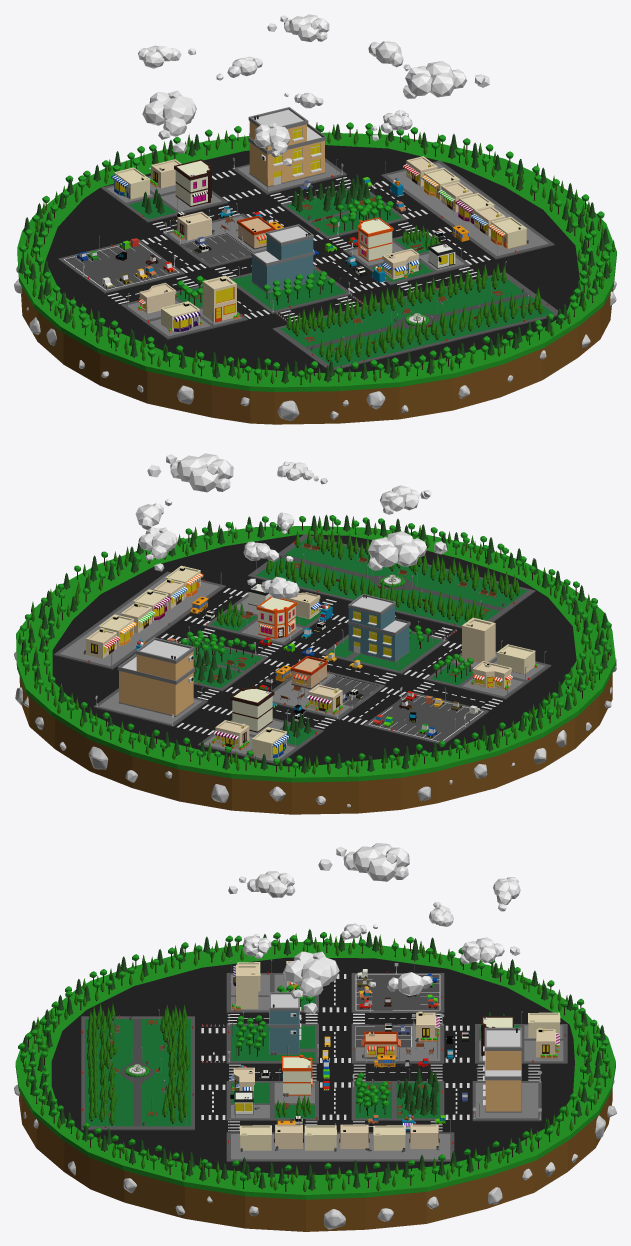
The model's file is CITTà.fbx.
3 views of the same model, one above another, from view 1: azimuth 30°, elevation 25°; view 2: azimuth 150°, elevation 25°; view 3: azimuth 270°, elevation 25° (orthographic).
Parts seen in each view (by area): view 1: città, Plane.036, superpino.008, Plane, villa.002, villa, Icosphere.020, Nuvole grande.001, Nuvole grande.005, pino.006, pino.008, albergo.002 (+25 smaller); view 2: città, Plane.036, superpino.008, Plane, villa.002, villa, Icosphere.020, Nuvole grande.005, Nuvole grande.001, albergo.002, pino.009, albergo (+24 smaller); view 3: città, Plane.036, superpino.008, Plane, villa.002, Nuvole grande.001, Nuvole grande.005, Icosphere.020, villa, pino.010, albergo, Nuvole grande.003 (+20 smaller).
Boxes of the visible parts, left/top/right/bottom form: città: left=17, top=132, right=616, bottom=424; Plane.036: left=58, top=158, right=561, bottom=370; superpino.008: left=18, top=122, right=615, bottom=384; Plane: left=162, top=185, right=470, bottom=313; villa.002: left=248, top=107, right=326, bottom=187; villa: left=251, top=224, right=314, bottom=292; Icosphere.020: left=14, top=266, right=616, bottom=420; Nuvole grande.001: left=142, top=90, right=196, bottom=153; Nuvole grande.005: left=403, top=61, right=489, bottom=98; pino.006: left=335, top=296, right=542, bottom=362; pino.008: left=291, top=266, right=506, bottom=336; albergo.002: left=174, top=159, right=212, bottom=206; città: left=16, top=526, right=615, bottom=814; Plane.036: left=53, top=534, right=551, bottom=764; superpino.008: left=18, top=514, right=612, bottom=776; Plane: left=186, top=593, right=447, bottom=719; villa.002: left=117, top=637, right=194, bottom=716; villa: left=347, top=594, right=410, bottom=662; Icosphere.020: left=14, top=652, right=616, bottom=807; Nuvole grande.005: left=147, top=453, right=233, bottom=492; Nuvole grande.001: left=368, top=531, right=447, bottom=570; albergo.002: left=231, top=685, right=274, bottom=732; pino.009: left=266, top=560, right=474, bottom=621; albergo: left=256, top=596, right=296, bottom=638; città: left=15, top=941, right=615, bottom=1231; Plane.036: left=81, top=973, right=567, bottom=1161; superpino.008: left=18, top=929, right=611, bottom=1191; Plane: left=226, top=1023, right=444, bottom=1120; villa.002: left=483, top=1027, right=521, bottom=1112; Nuvole grande.001: left=318, top=843, right=409, bottom=881; Nuvole grande.005: left=283, top=951, right=339, bottom=1014; Icosphere.020: left=14, top=1079, right=616, bottom=1229; villa: left=269, top=992, right=301, bottom=1054; pino.010: left=95, top=1003, right=189, bottom=1125; albergo: left=282, top=1054, right=312, bottom=1095; Nuvole grande.003: left=228, top=871, right=295, bottom=897.
Bounding box in the file's own units: 13565 × 5070 × 13592.
